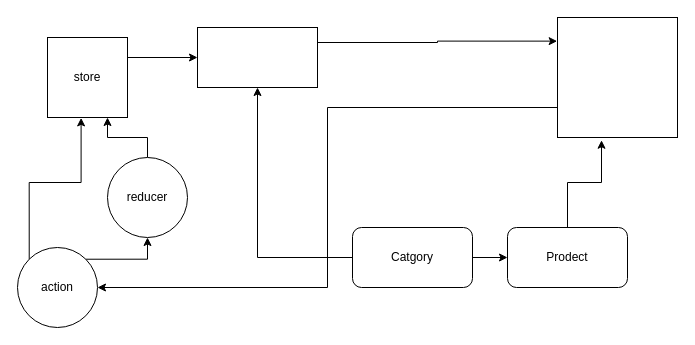
The diagram is 695 pixels wide and 345 high, and some of its shapes have lost their labels. Here are the shapes that lost their labels. From the top down, the centre of each, then its label:
At [257,57]: "index".
At [617,77]: "App".
